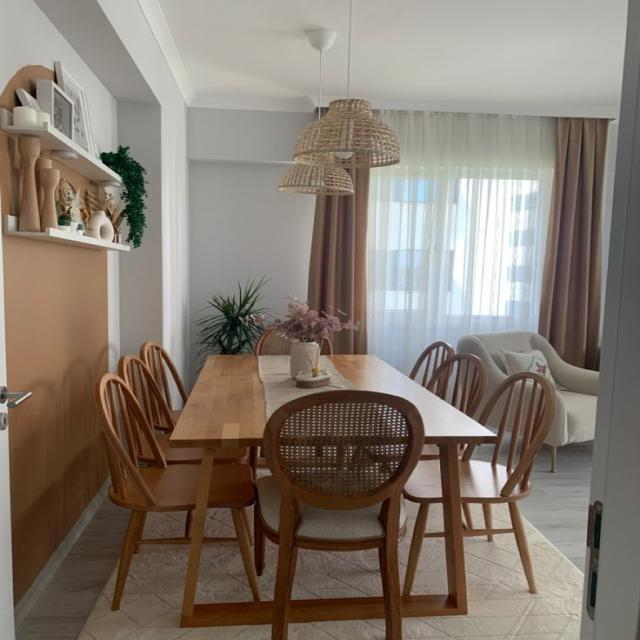obstacle: (168, 352, 500, 626), (253, 388, 425, 640), (94, 372, 260, 610), (400, 370, 557, 594), (0, 64, 131, 252), (454, 330, 600, 472)
